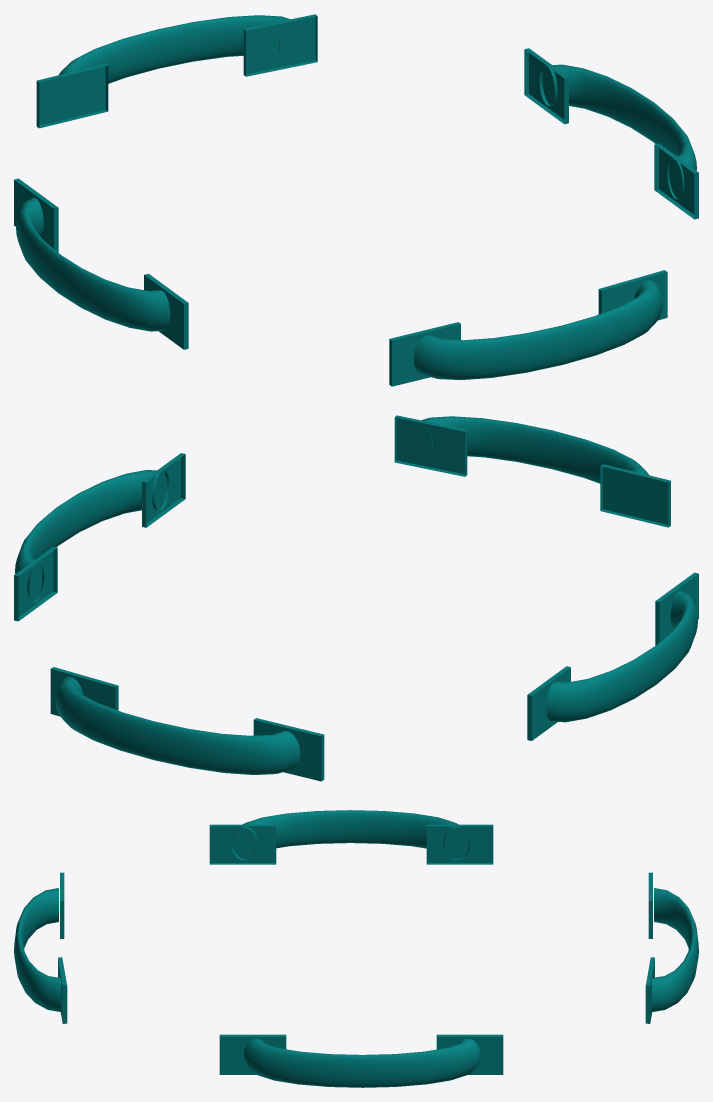
The model's file is asas-emp-separadas.fbx.
3 views of the same model, one above another, from view 1: azimuth 30°, elevation 25°; view 2: azimuth 150°, elevation 25°; view 3: azimuth 270°, elevation 25° (orthographic). The views are drawn at different scales.
Visible parts, largest first — view 1: asas_low; view 2: asas_low; view 3: asas_low.
Part boxes in pixels (x1,y1,x2,y2): asas_low: [14, 14, 698, 386]; asas_low: [14, 415, 698, 781]; asas_low: [14, 810, 698, 1087].
Size of the model in its own units: 340 by 24.44 by 396.
